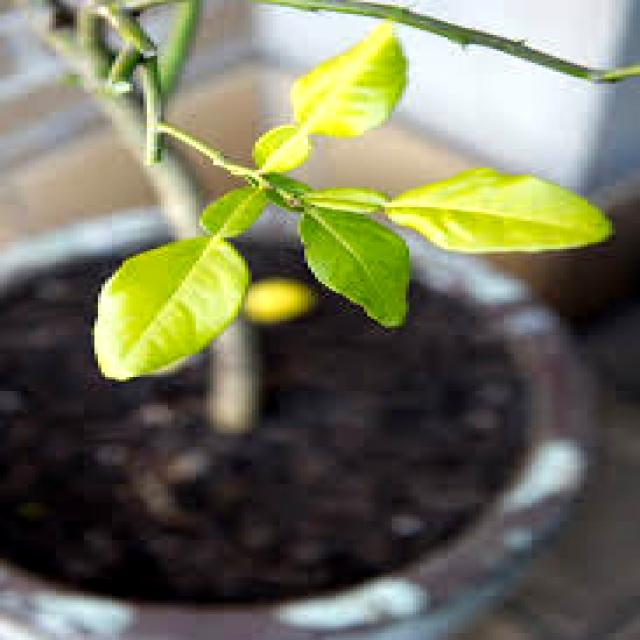yellowish leaf: (93, 183, 278, 379), (312, 169, 614, 259), (242, 17, 404, 179)
